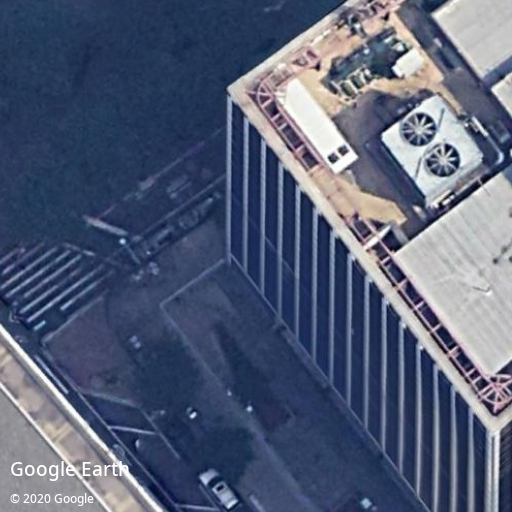Vent: (401, 112, 437, 146), (427, 143, 460, 177)
